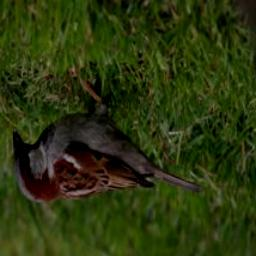Sparrow: (10, 63, 203, 206)
